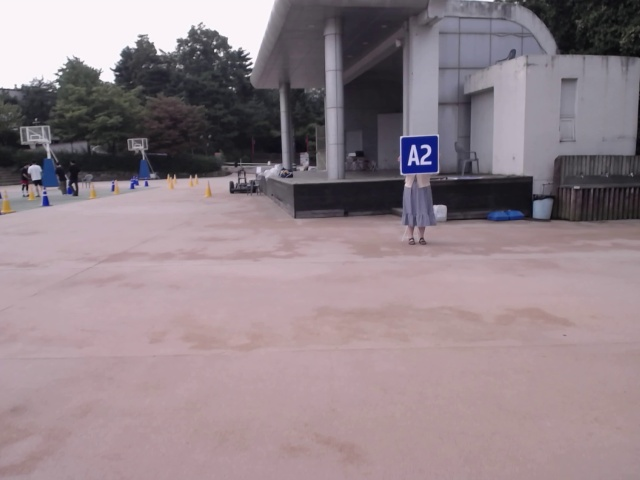delivery_a2: (400, 134, 439, 174)
